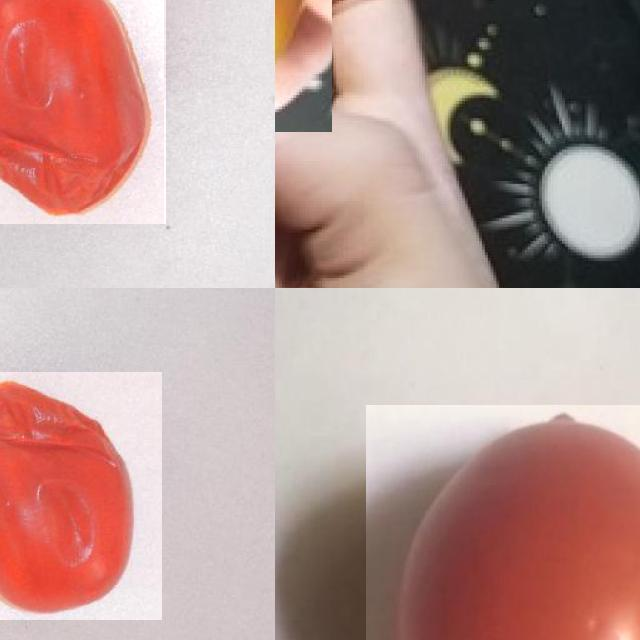Fresh Tomato: (366, 405, 640, 640)
Rotten Tomato: (0, 372, 161, 620), (0, 0, 166, 224)
